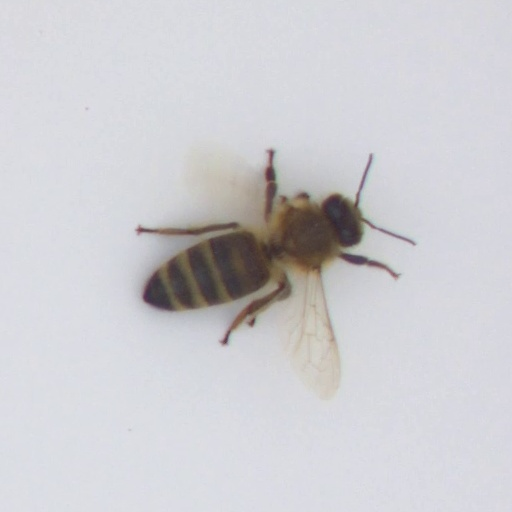Bee: (126, 185, 380, 328)
Thorax: (269, 196, 338, 269)
